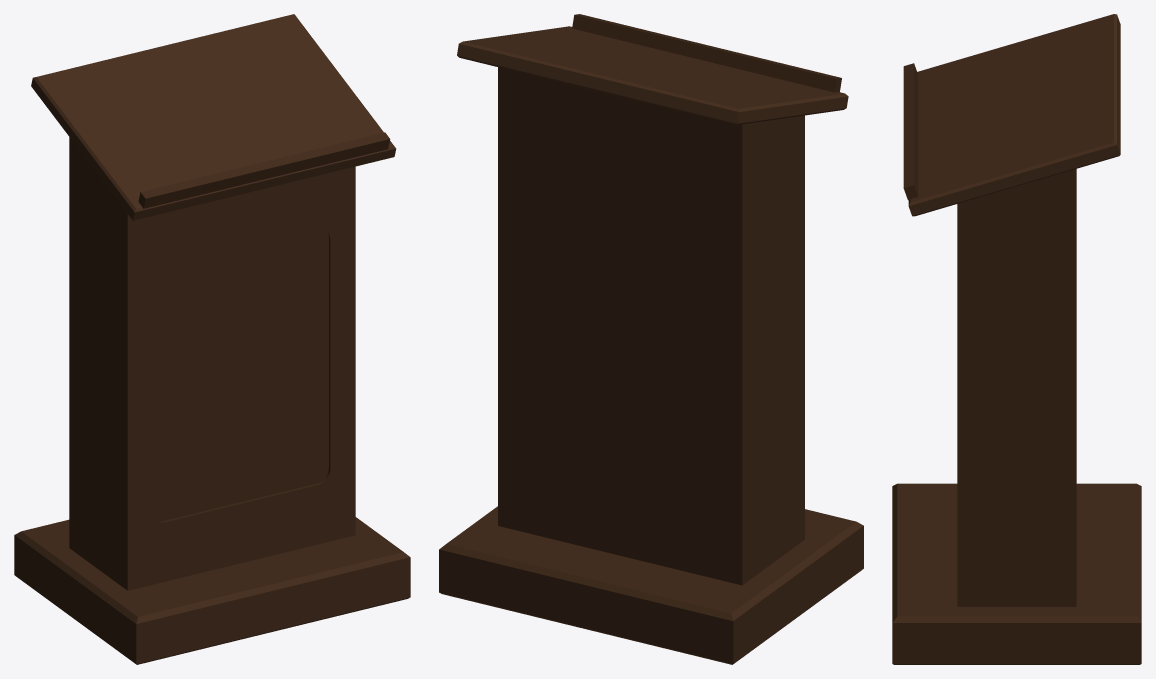
The model's file is lectern.glb.
3 renders of one model, left to right at view 1: azimuth 30°, elevation 25°; view 2: azimuth 150°, elevation 25°; view 3: azimuth 270°, elevation 25°, orthographic. The views are drawn at different scales.
Parts seen in each view (by area): view 1: lectern; view 2: lectern; view 3: lectern.
Boxes of the visible parts, bbox=[...] form: lectern: bbox=[14, 14, 410, 664]; lectern: bbox=[439, 14, 863, 664]; lectern: bbox=[892, 14, 1141, 664].
Size of the model in its own units: 0.65 by 1.15 by 0.5.
